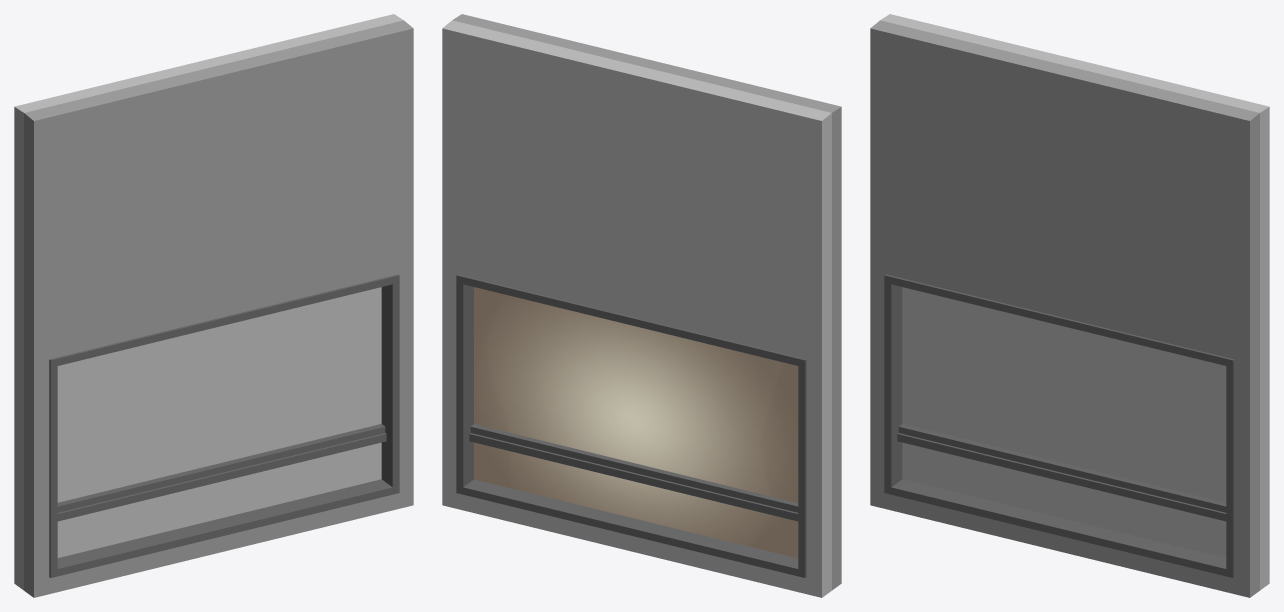
File: SM_Bld_Base_Wall_Window_Low_01.fbx
3 views of the same model, side by side, from view 1: azimuth 30°, elevation 25°; view 2: azimuth 150°, elevation 25°; view 3: azimuth 330°, elevation 25° (orthographic).
Parts seen in each view (by area): view 1: SM_Bld_Base_Wall_Window_Low_01, SM_Bld_Base_Wall_Window_Low_01_Glass; view 2: SM_Bld_Base_Wall_Window_Low_01, SM_Bld_Base_Wall_Window_Low_01_Glass; view 3: SM_Bld_Base_Wall_Window_Low_01, SM_Bld_Base_Wall_Window_Low_01_Glass.
Part boxes in pixels (box(x1,y1,x2,y2)): SM_Bld_Base_Wall_Window_Low_01: box(14, 14, 413, 597); SM_Bld_Base_Wall_Window_Low_01_Glass: box(57, 287, 381, 557); SM_Bld_Base_Wall_Window_Low_01: box(442, 14, 841, 597); SM_Bld_Base_Wall_Window_Low_01_Glass: box(474, 287, 798, 558); SM_Bld_Base_Wall_Window_Low_01: box(870, 14, 1269, 597); SM_Bld_Base_Wall_Window_Low_01_Glass: box(902, 287, 1226, 557).
Bounding box in the file's own units: 250 × 301 × 25.56.
